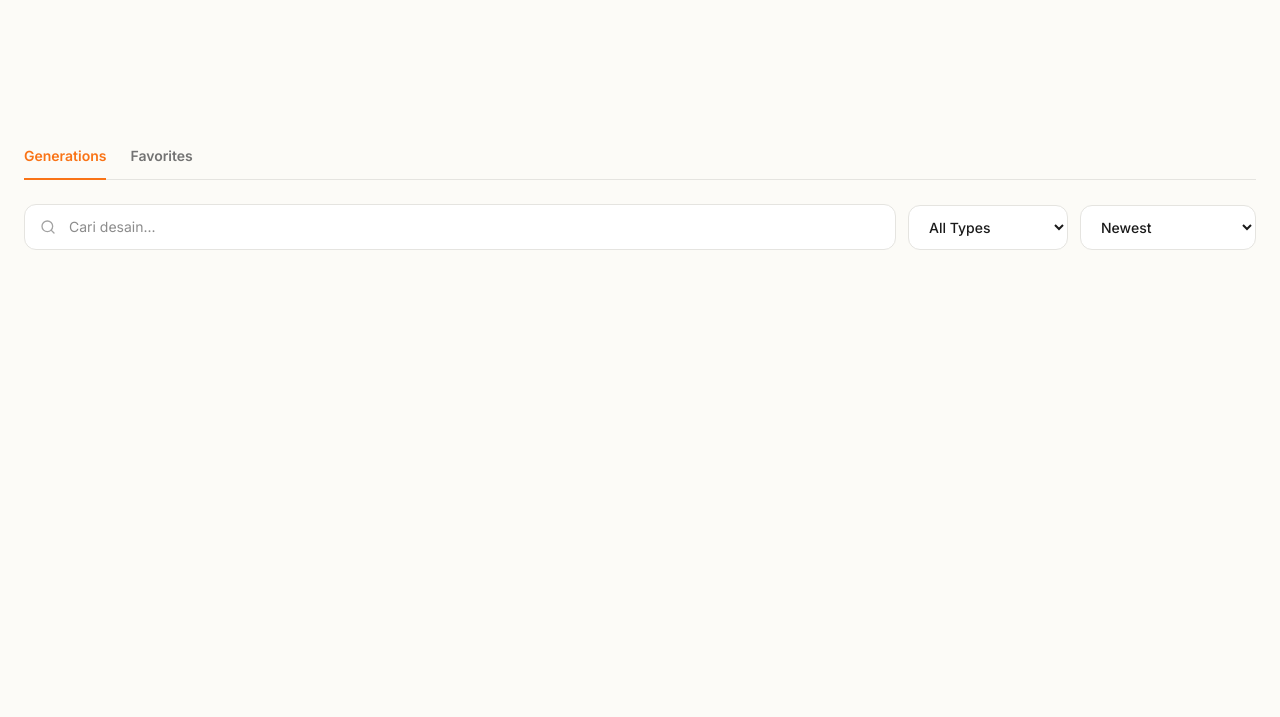
HistoryPage Search & Filter (Pencarian & Filter Template) › TC-013: Empty State muncul jika kata kunci tidak valid
# Type something that doesn't exist
In the field with placeholder "Cari desain...": (460, 227) [24,204,896,250], type "Susu Coklat"
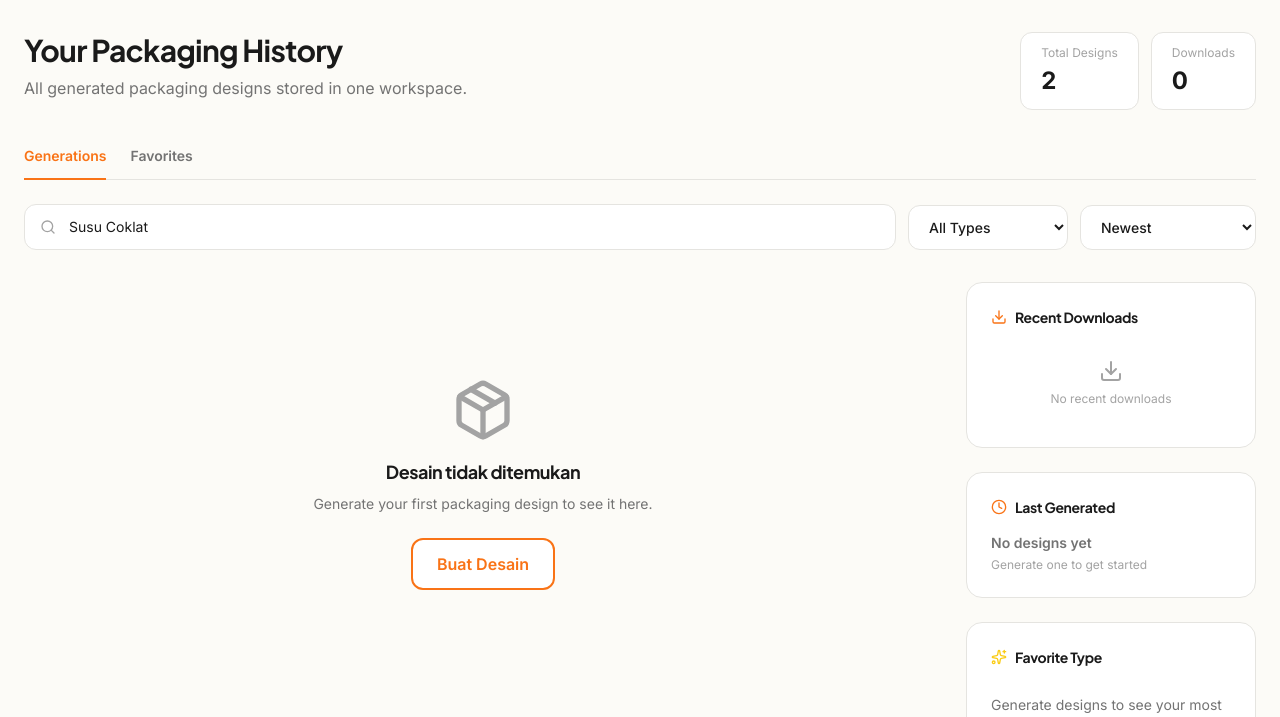
Expected: the heading "Desain tidak ditemukan" is shown, [386,458,580,486]
